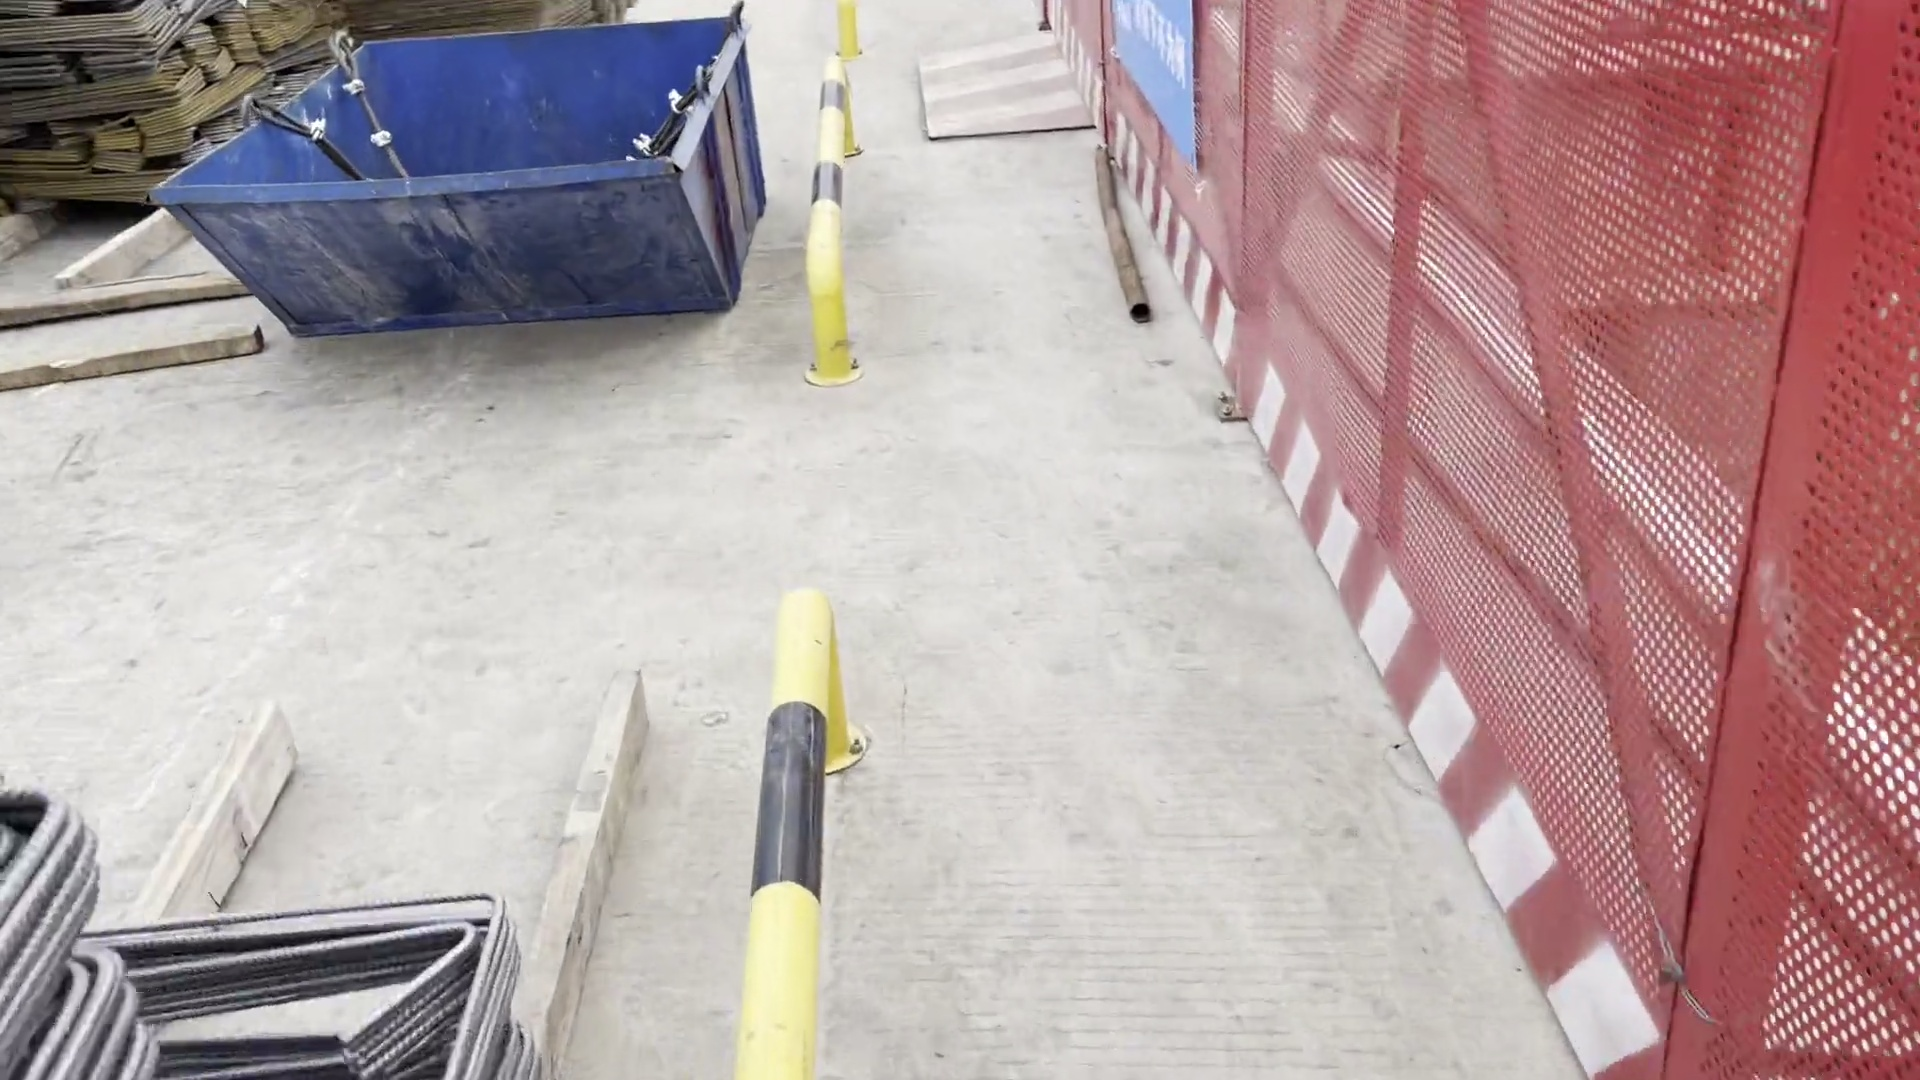fence: (1056, 3, 1920, 1080)
hopper: (117, 16, 810, 384)
slogan: (1079, 1, 1249, 195)
